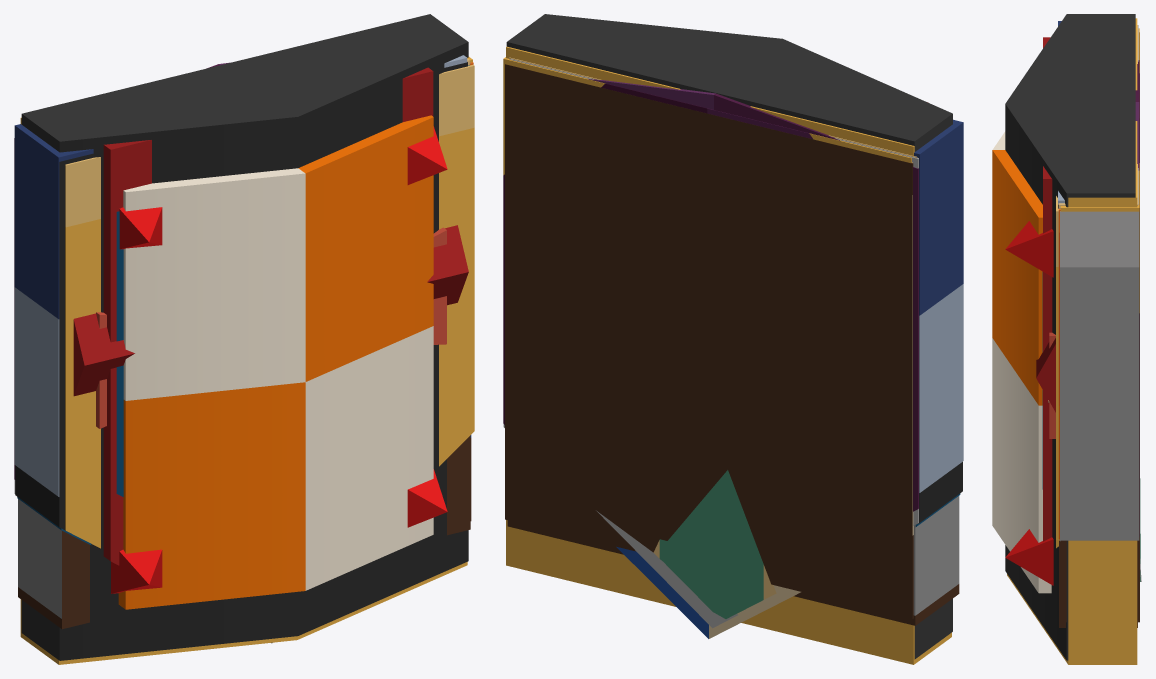
File: shield.FBX
3 views of the same model, side by side, from view 1: azimuth 30°, elevation 25°; view 2: azimuth 150°, elevation 25°; view 3: azimuth 270°, elevation 25° (orthographic). The views are drawn at different scales.
Visible parts, largest first — view 1: shield014, shield025, shield011, shield013, shield024, shield019, shield002, shield006, shield017, shield022; view 2: shield001, shield025, shield013, shield014, shield016, shield023, shield006, shield018, shield022, shield019, shield002, shield024; view 3: shield014, shield025, shield009, shield024, shield001, shield019, shield011, shield018, shield015, shield023, shield021, shield022.
Boxes of the visible parts, x1=… form: shield014: x1=20, y1=115, x2=467, y2=664; shield025: x1=21, y1=14, x2=468, y2=660; shield011: x1=65, y1=64, x2=474, y2=548; shield013: x1=14, y1=55, x2=467, y2=496; shield024: x1=15, y1=62, x2=467, y2=643; shield019: x1=14, y1=225, x2=468, y2=493; shield002: x1=18, y1=435, x2=470, y2=629; shield006: x1=18, y1=63, x2=470, y2=618; shield017: x1=17, y1=65, x2=469, y2=545; shield022: x1=96, y1=227, x2=471, y2=437; shield001: x1=505, y1=64, x2=913, y2=618; shield025: x1=506, y1=14, x2=952, y2=659; shield013: x1=914, y1=119, x2=963, y2=493; shield014: x1=506, y1=46, x2=951, y2=664; shield016: x1=509, y1=57, x2=917, y2=618; shield023: x1=588, y1=79, x2=918, y2=511; shield006: x1=913, y1=496, x2=959, y2=615; shield018: x1=503, y1=57, x2=911, y2=424; shield022: x1=616, y1=195, x2=913, y2=638; shield019: x1=510, y1=59, x2=918, y2=628; shield002: x1=507, y1=520, x2=959, y2=625; shield024: x1=917, y1=102, x2=962, y2=524; shield014: x1=992, y1=18, x2=1137, y2=664; shield025: x1=1005, y1=14, x2=1135, y2=660; shield009: x1=1060, y1=211, x2=1139, y2=541; shield024: x1=1043, y1=37, x2=1058, y2=541; shield001: x1=1060, y1=32, x2=1139, y2=622; shield019: x1=1036, y1=25, x2=1141, y2=581; shield011: x1=1056, y1=196, x2=1059, y2=548; shield018: x1=1060, y1=28, x2=1139, y2=536; shield015: x1=1058, y1=208, x2=1060, y2=538; shield023: x1=1135, y1=60, x2=1139, y2=170; shield021: x1=1048, y1=233, x2=1059, y2=539; shield022: x1=1049, y1=332, x2=1055, y2=438.
Bounding box in the file's own units: 1.98 × 2.49 × 0.6832.
